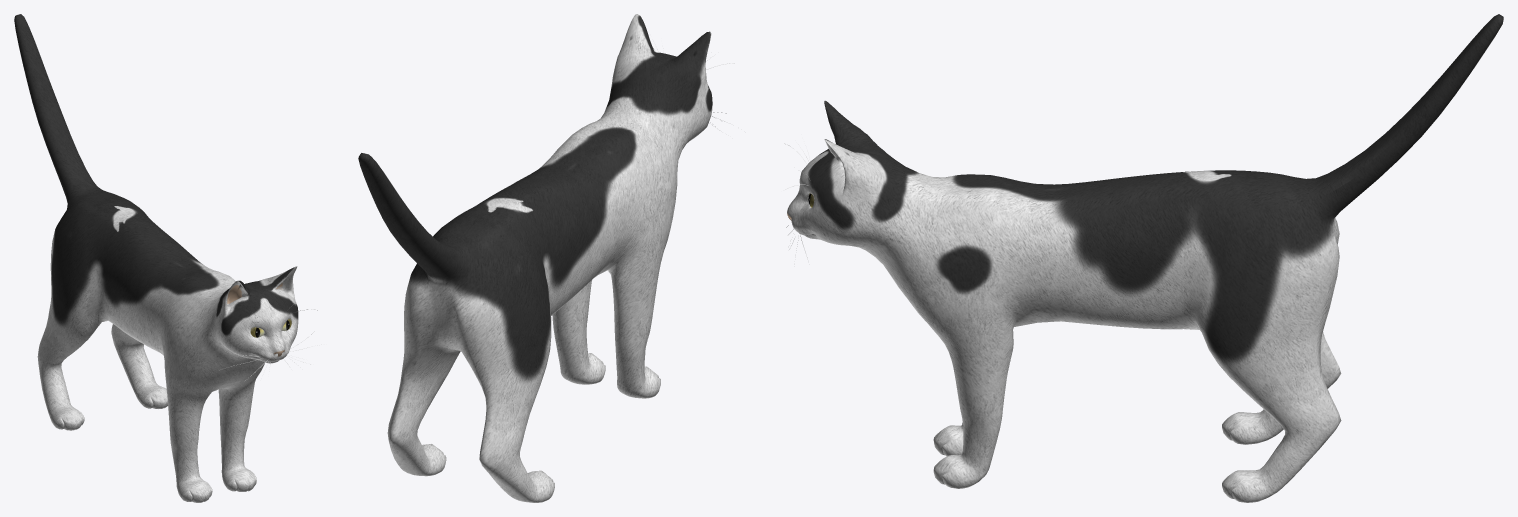
Rendered from husa.obj.
3 renders of one model, left to right at view 1: azimuth 30°, elevation 25°; view 2: azimuth 150°, elevation 25°; view 3: azimuth 270°, elevation 25°, orthographic. The views are drawn at different scales.
Visible parts, largest first — view 1: Generic; view 2: Generic; view 3: Generic.
Boxes of the visible parts, <box> form: Generic: <box>14,14,321,502</box>; Generic: <box>358,14,734,502</box>; Generic: <box>783,14,1503,502</box>.
Bounding box in the file's own units: 4.5 × 12.46 × 18.09.
Materials: 9 (9 with a texture image).
